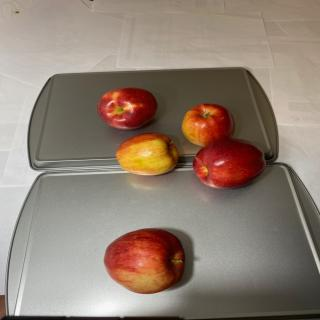Apple: (104, 228, 185, 294), (192, 138, 266, 189), (115, 132, 179, 176), (97, 87, 158, 130), (181, 103, 235, 147)
